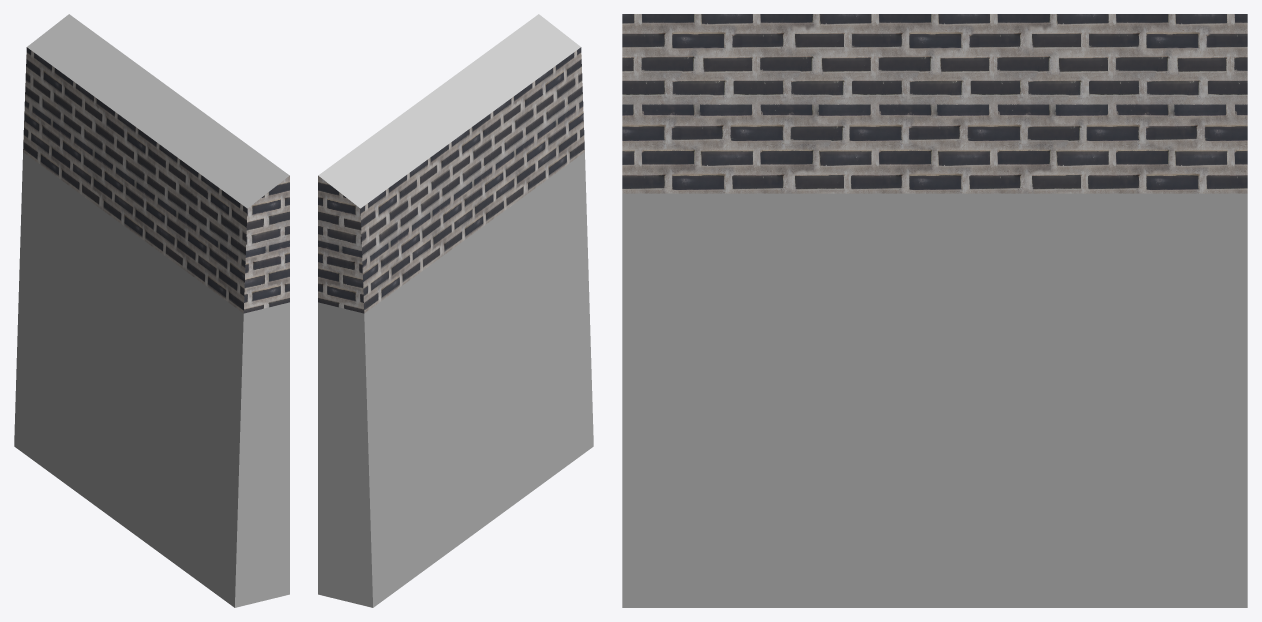
File: SM_W_Stone_1.fbx
3 views of the same model, side by side, from view 1: azimuth 30°, elevation 25°; view 2: azimuth 150°, elevation 25°; view 3: azimuth 270°, elevation 25° (orthographic). The views are drawn at different scales.
Parts seen in each view (by area): view 1: SM_W_Stone_1; view 2: SM_W_Stone_1; view 3: SM_W_Stone_1.
Part boxes in pixels (bbox=[...]): SM_W_Stone_1: bbox=[14, 14, 289, 607]; SM_W_Stone_1: bbox=[318, 14, 593, 607]; SM_W_Stone_1: bbox=[622, 14, 1247, 607].
Bounding box in the file's own units: 28.34 × 197 × 206.
